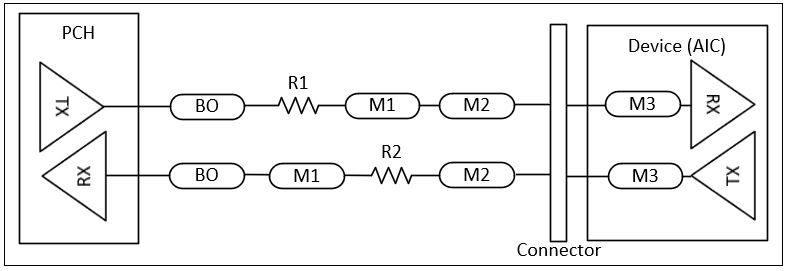oval: (167, 90, 250, 125), (167, 159, 250, 194), (264, 160, 347, 195), (340, 91, 423, 126), (436, 89, 519, 124), (435, 159, 518, 194), (599, 89, 682, 124), (602, 157, 685, 192)
rectangle: (582, 21, 771, 245), (10, 7, 147, 253), (546, 16, 571, 247)
resistor: (275, 92, 328, 118), (369, 163, 417, 188)
triangle: (35, 52, 109, 154), (40, 125, 114, 227), (688, 123, 762, 225), (688, 54, 753, 155)
